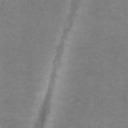finishing roll printing: (34, 0, 80, 128)
